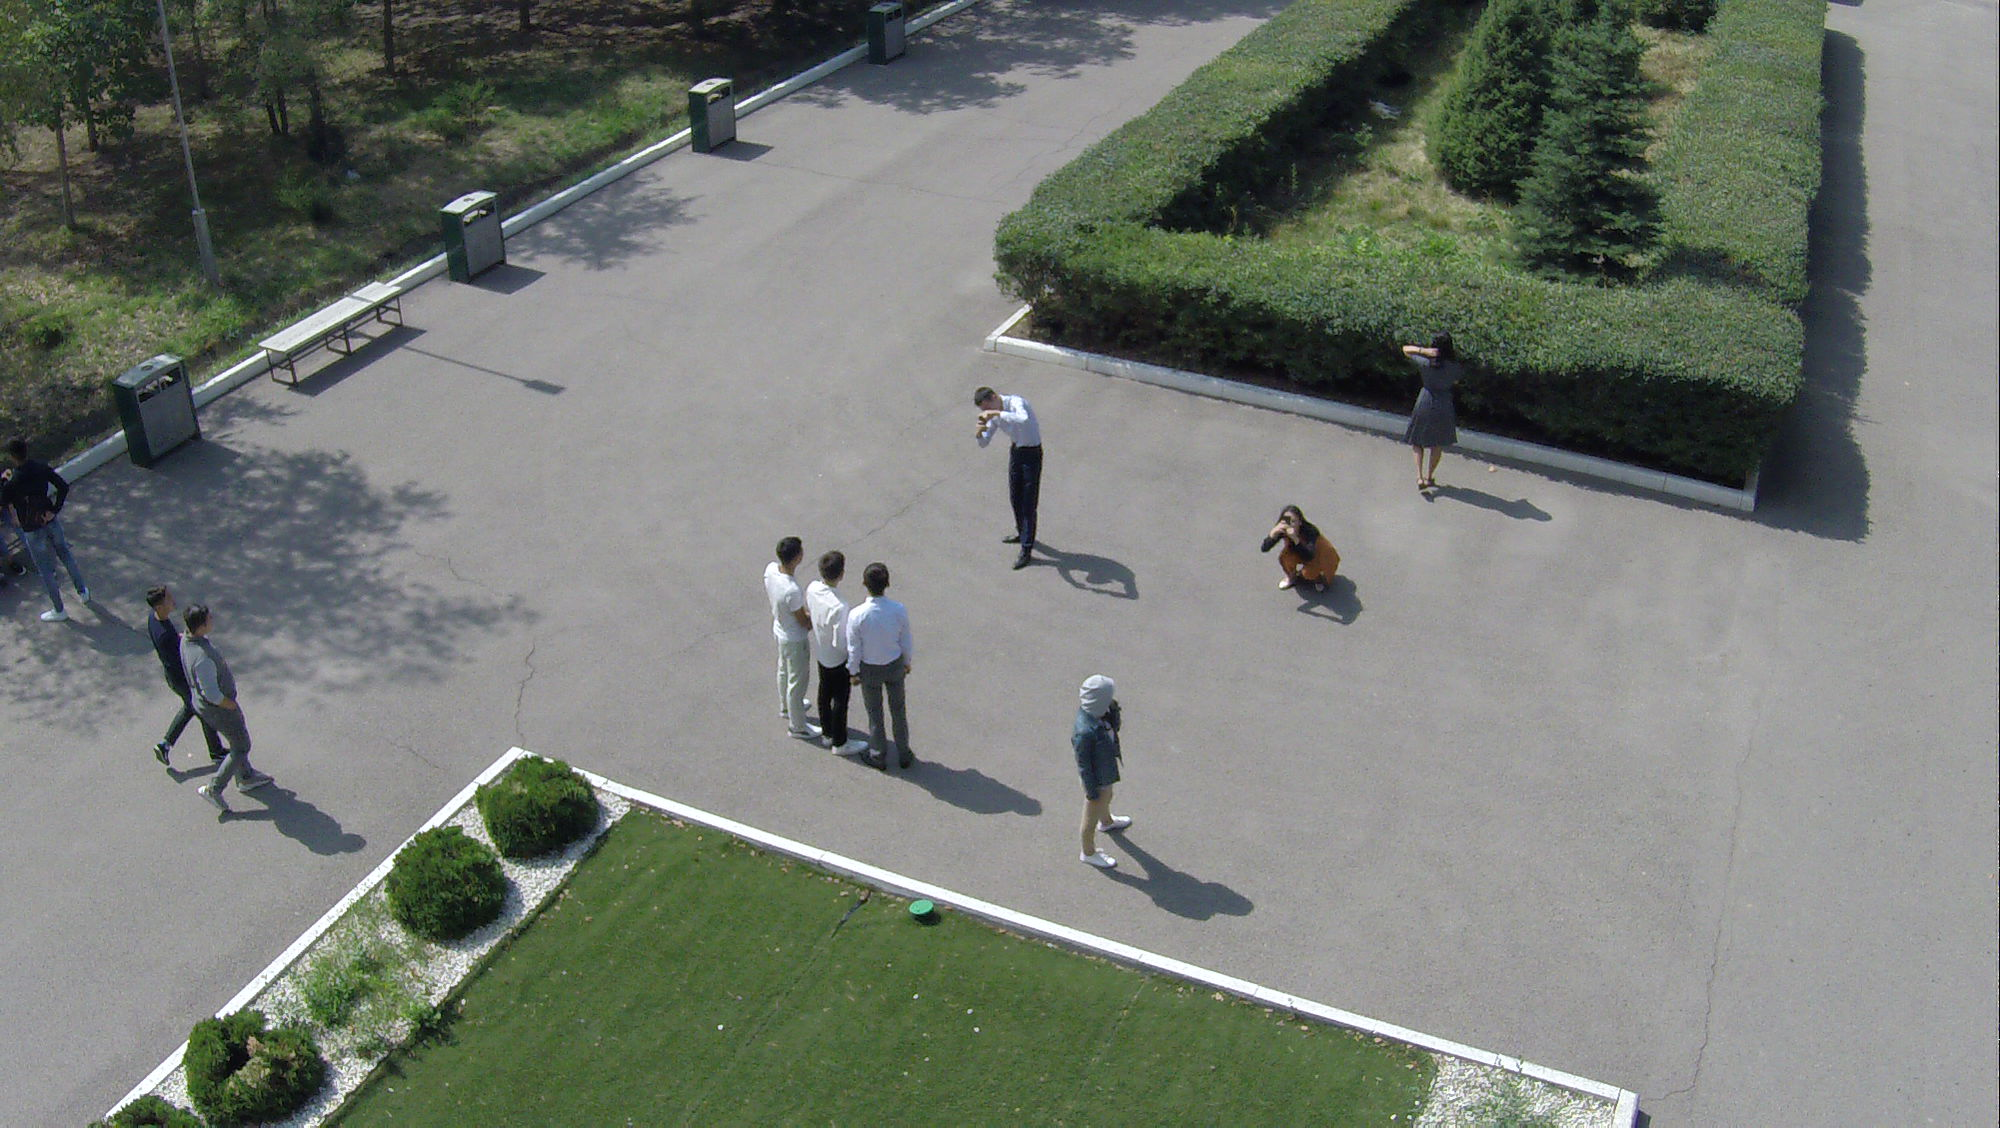person: (176, 616, 270, 828), (132, 580, 226, 776), (3, 443, 93, 630), (853, 560, 932, 772), (1068, 672, 1141, 880), (762, 539, 835, 741), (972, 385, 1045, 574), (814, 555, 876, 764), (1399, 333, 1464, 497), (1266, 499, 1347, 603)
